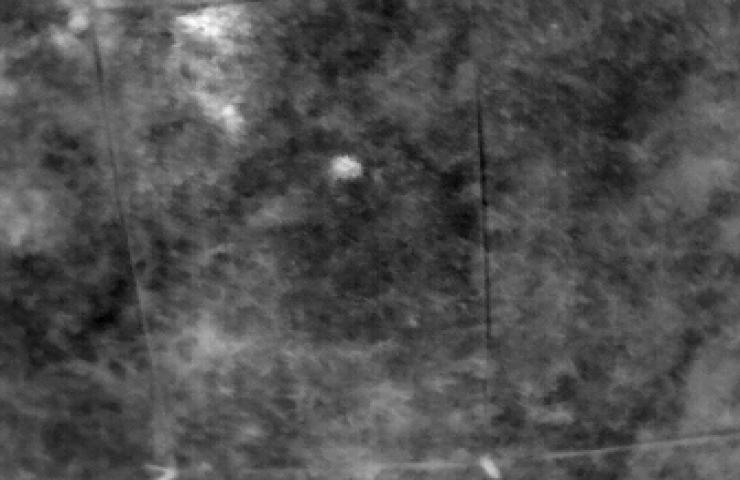landmines: (327, 150, 367, 184)
